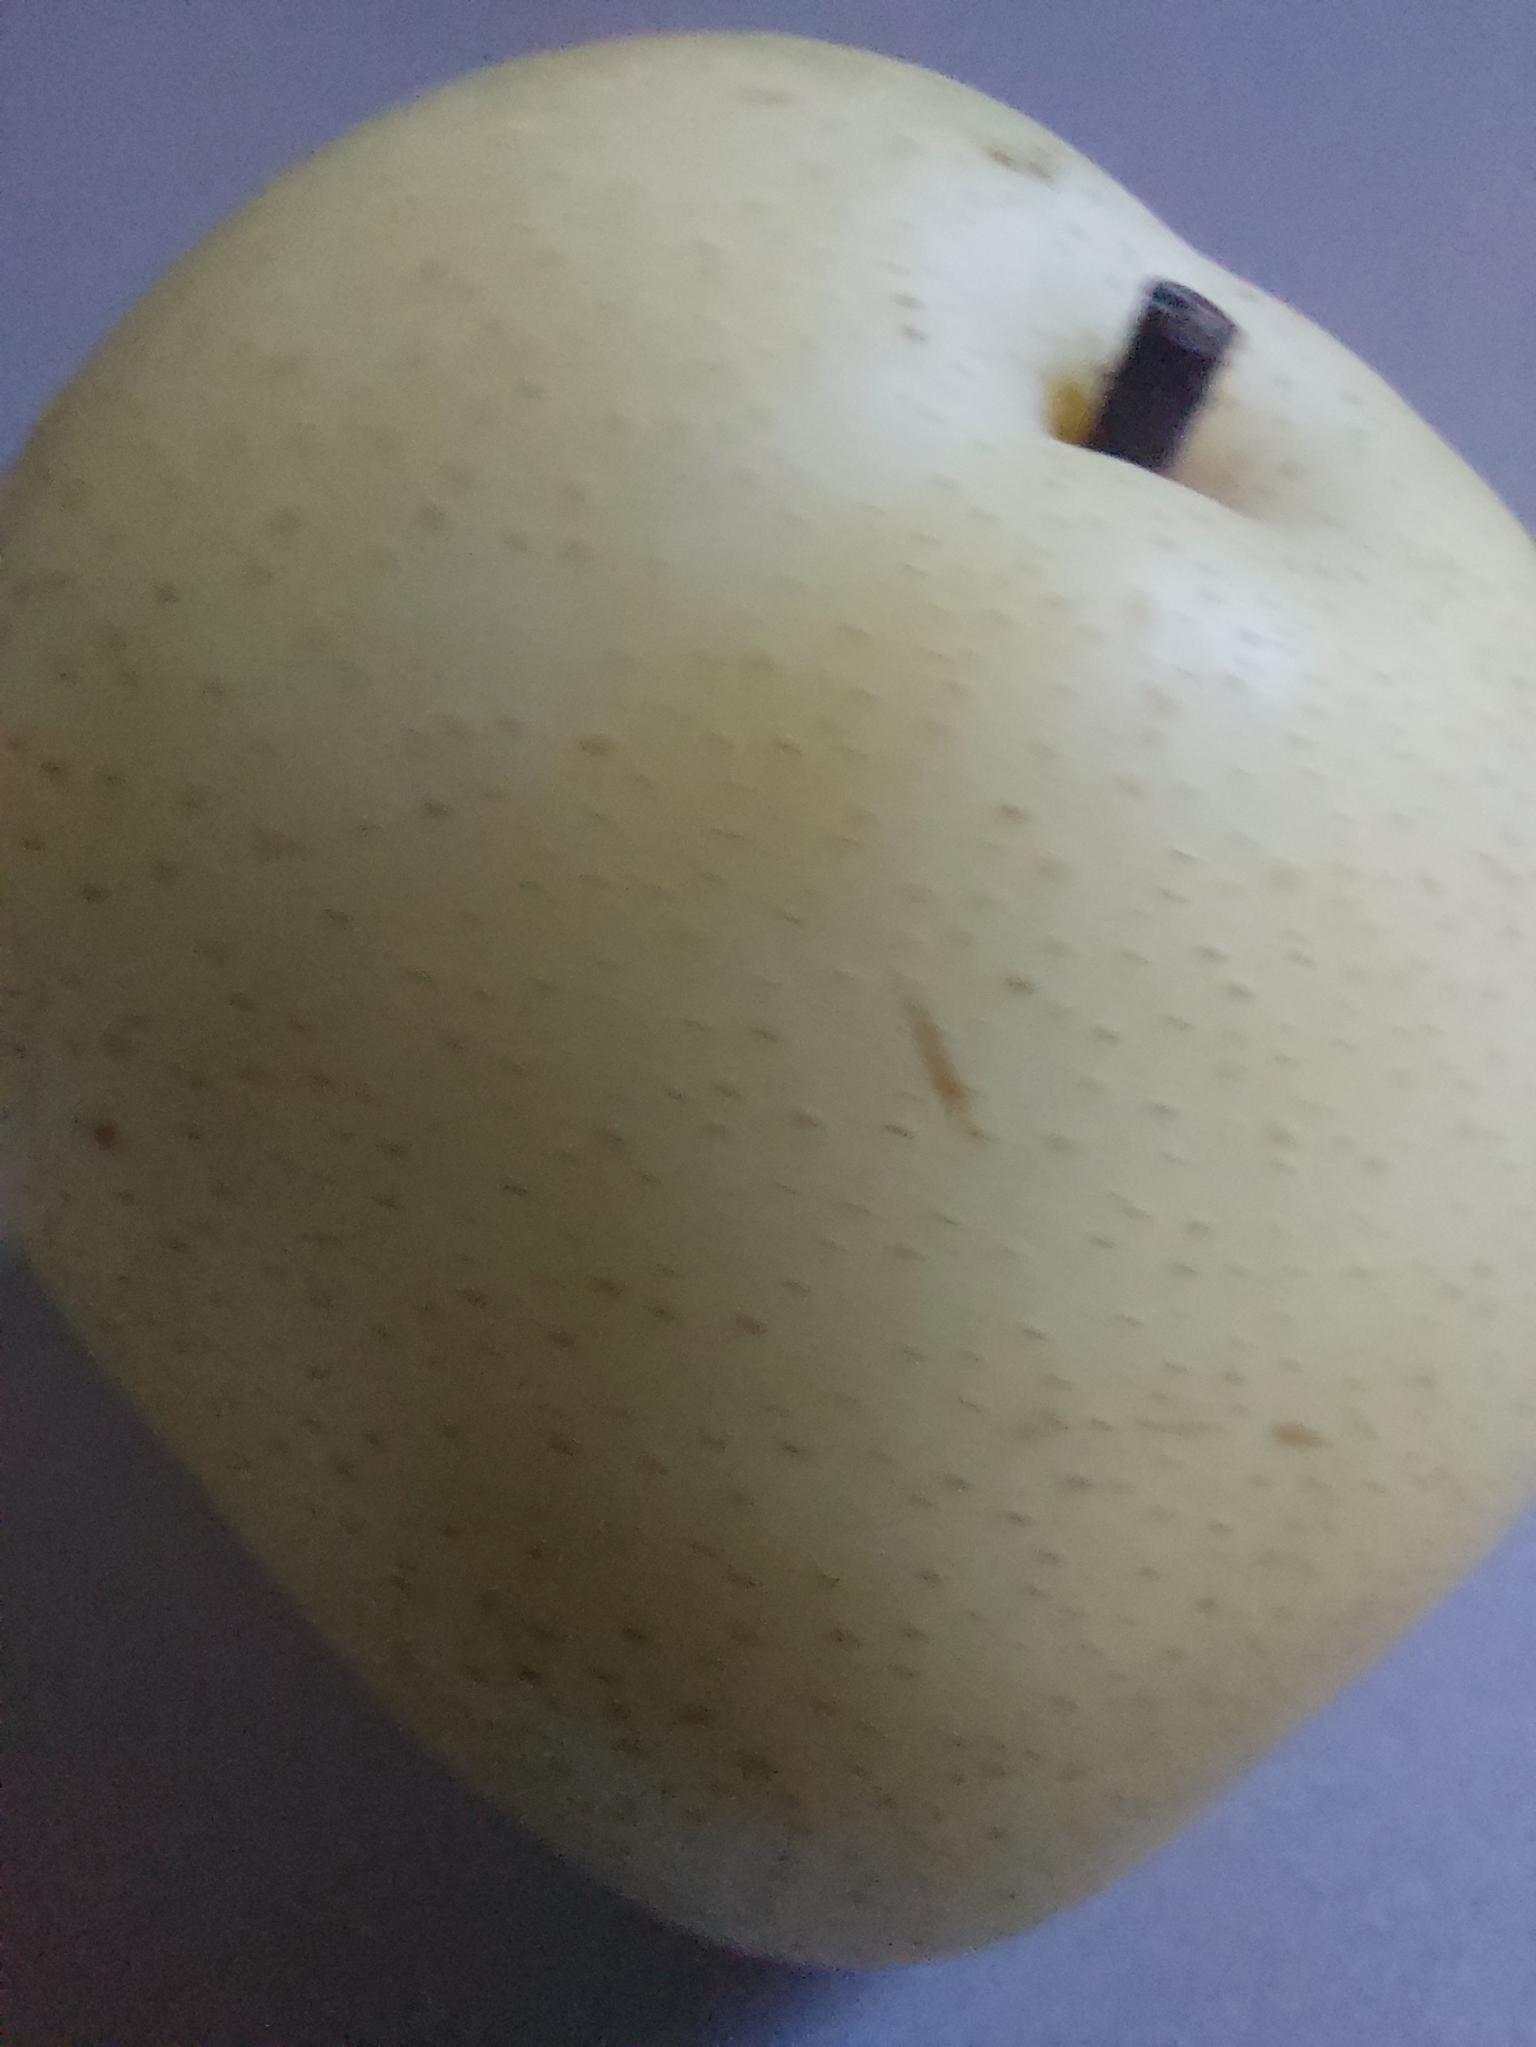Good Pear: (8, 2, 1536, 1979)
